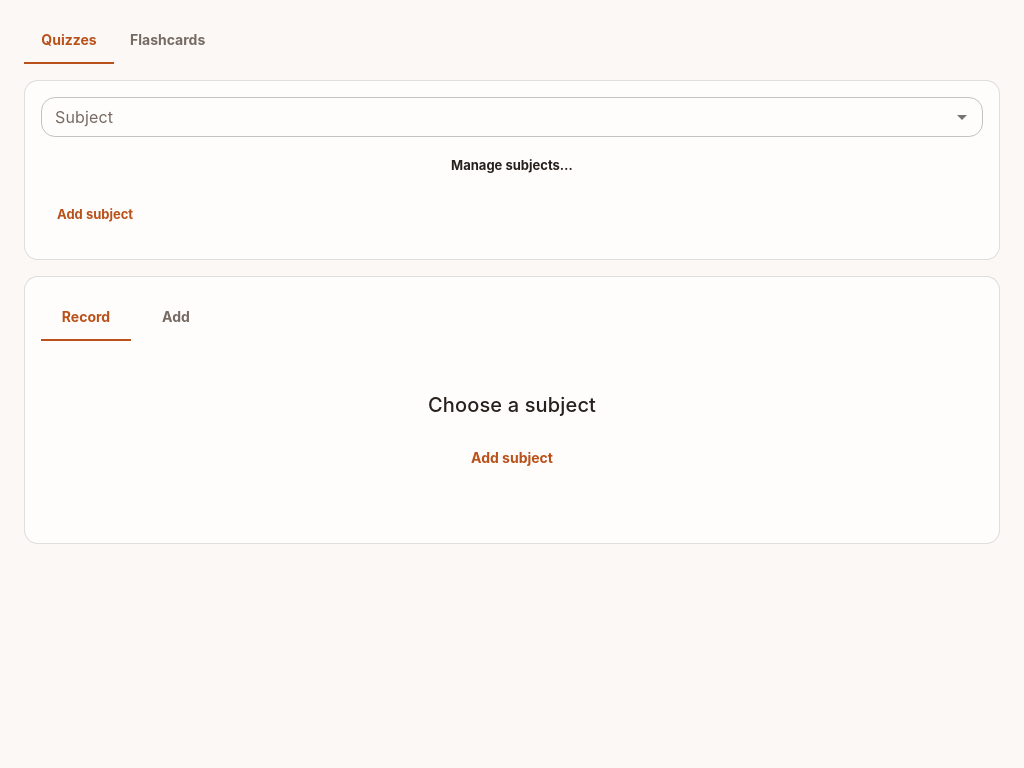
Test: deletes a subject with its topics, quizzes, items, decks and cards through one cascading request
Click the button titled "Open" at (962, 117), box [948,103,976,131]
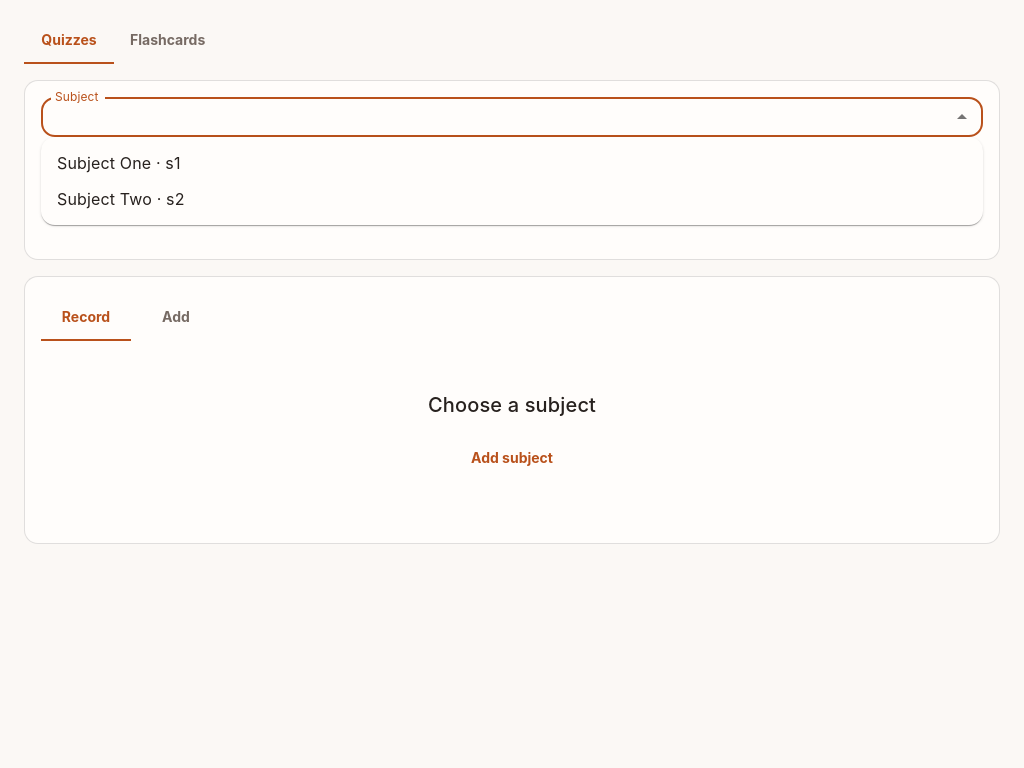
Click the option "Subject One · s1" at (119, 163), box [57,153,181,173]
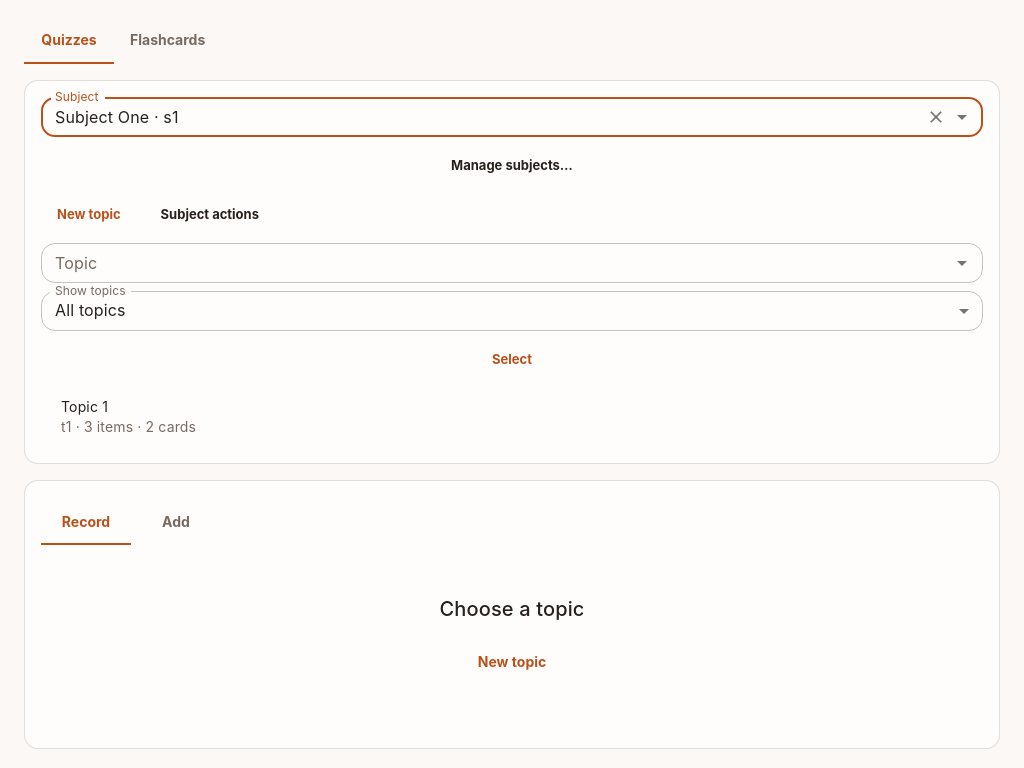
Result: the dropdown labelled "Topic" is shown at [47,248,944,276]
Click the button "Subject actions" at (210, 214), box [145,194,275,235]
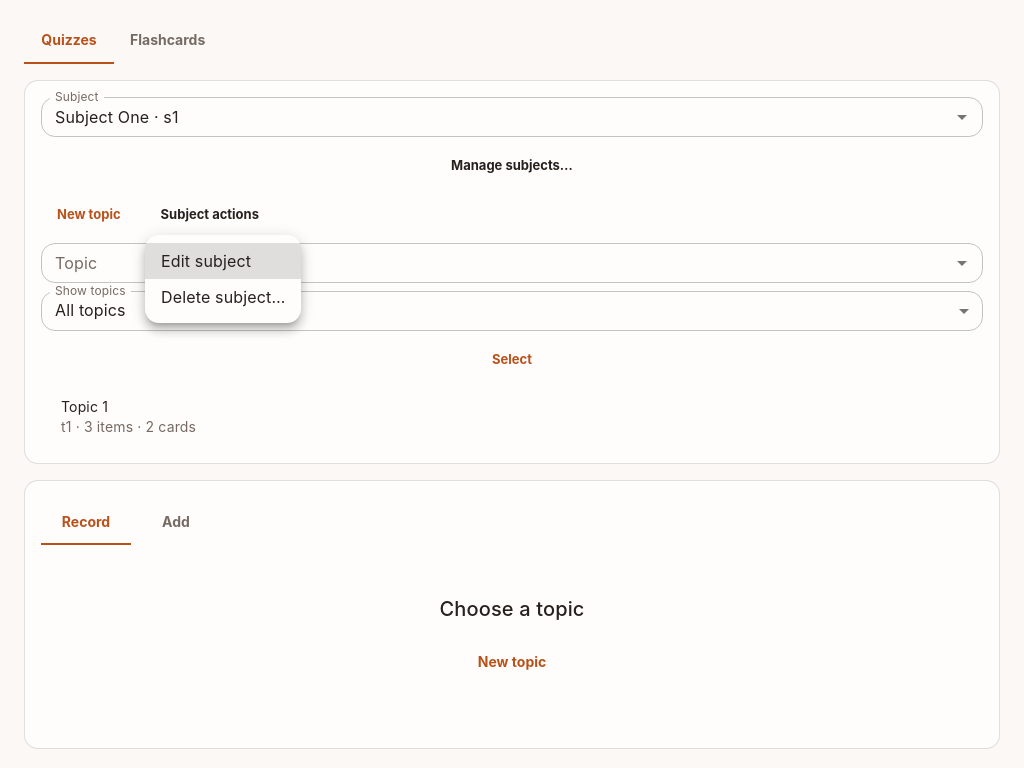
Click the menu item "Delete subject…" at (223, 297), box [161,287,285,307]
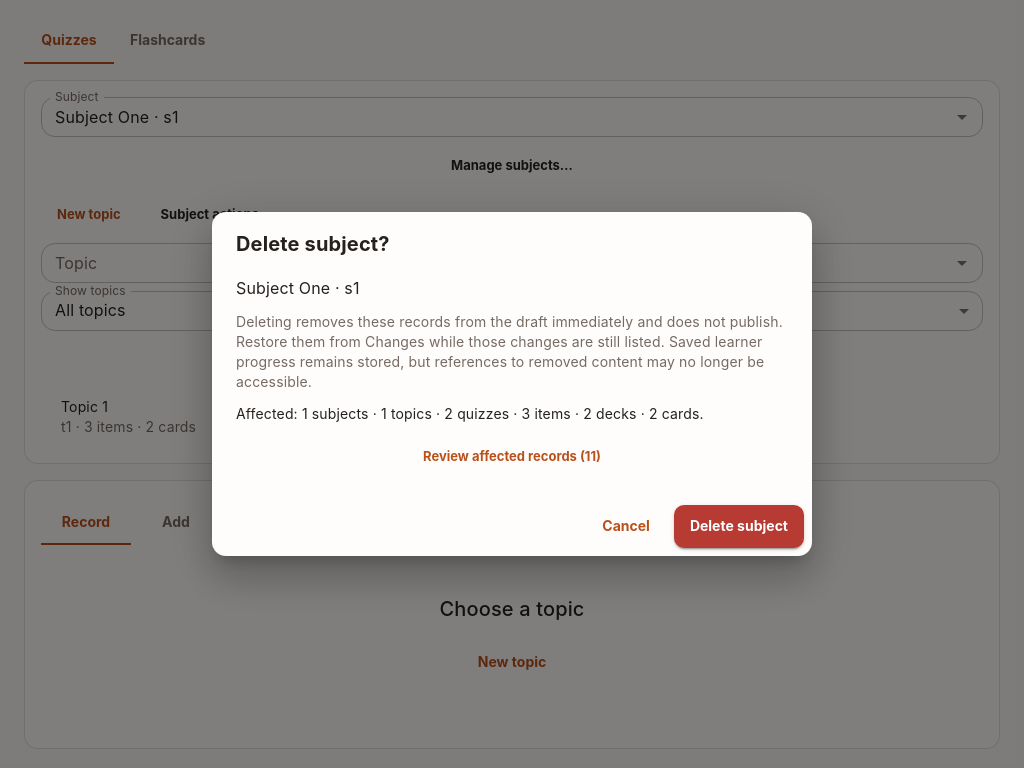
Result: the text "Affected: 1 subjects · 1 topics · 2 quizzes · 3 items · 2 decks · 2 cards." is shown at [236,405,704,422]
Click the button "Delete subject" at (739, 526), box [674,505,804,548]
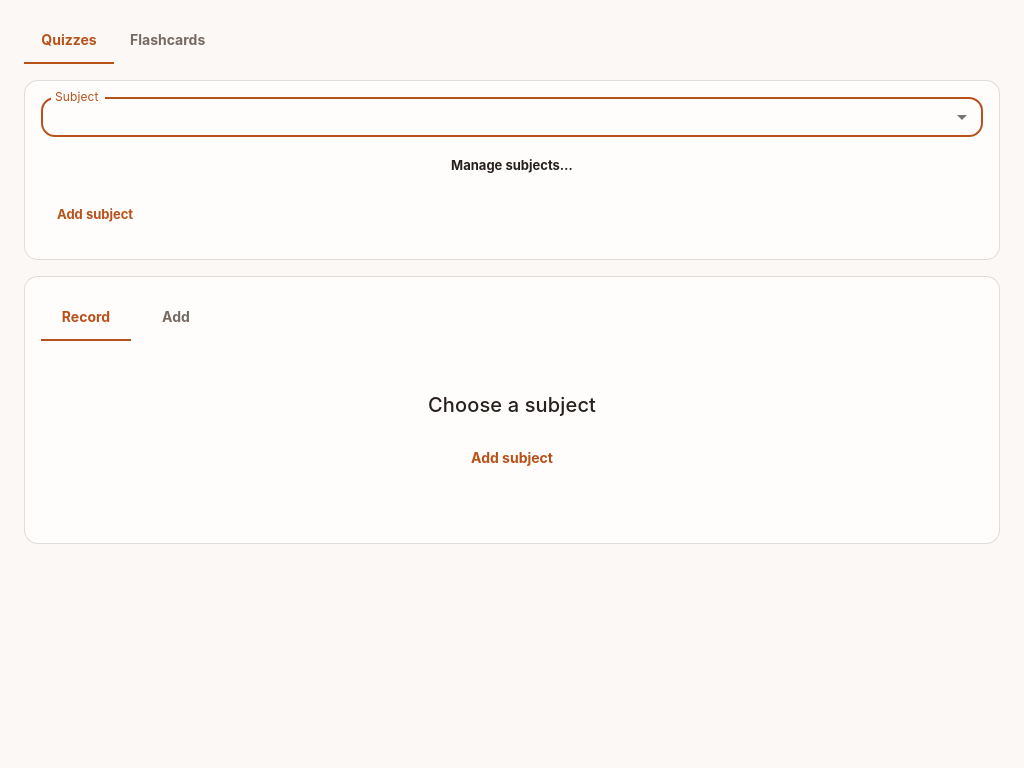
Result: the dialog is gone
